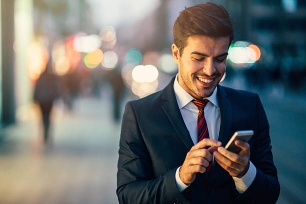male: (167, 2, 230, 99)
